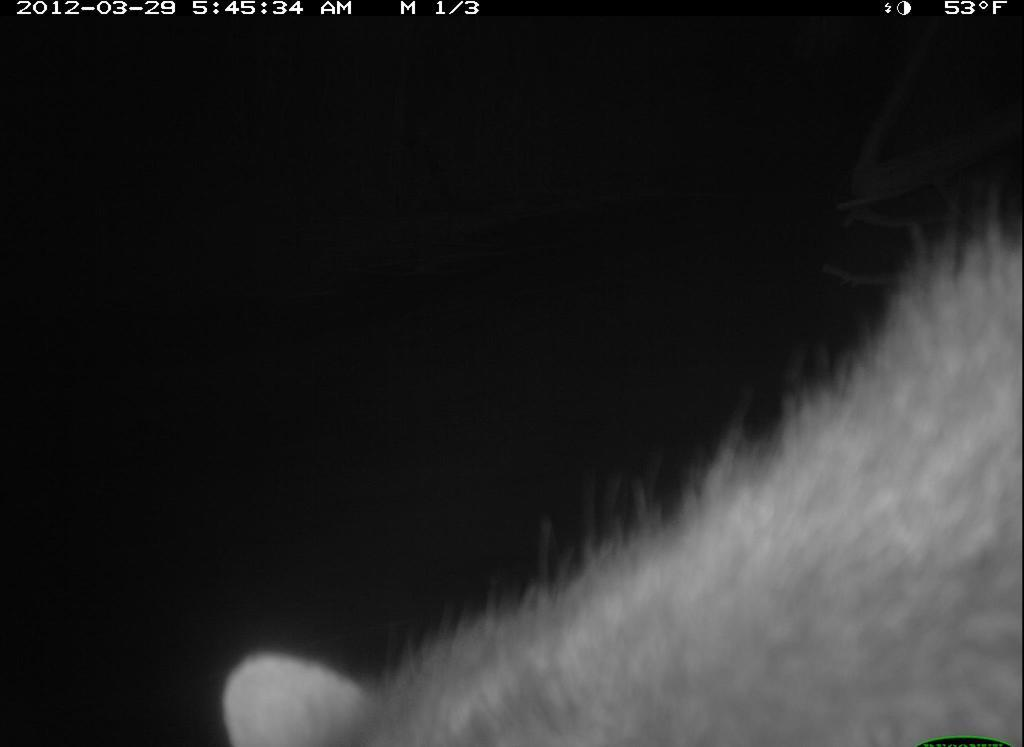raccoon: (210, 213, 1021, 747)
